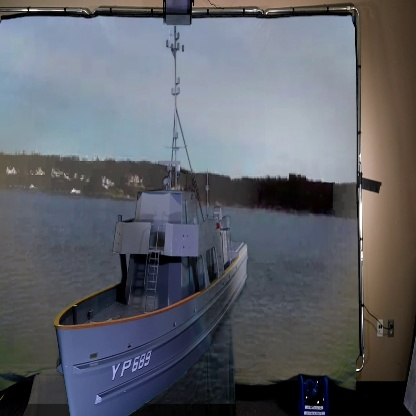YP689: (52, 27, 250, 416)
